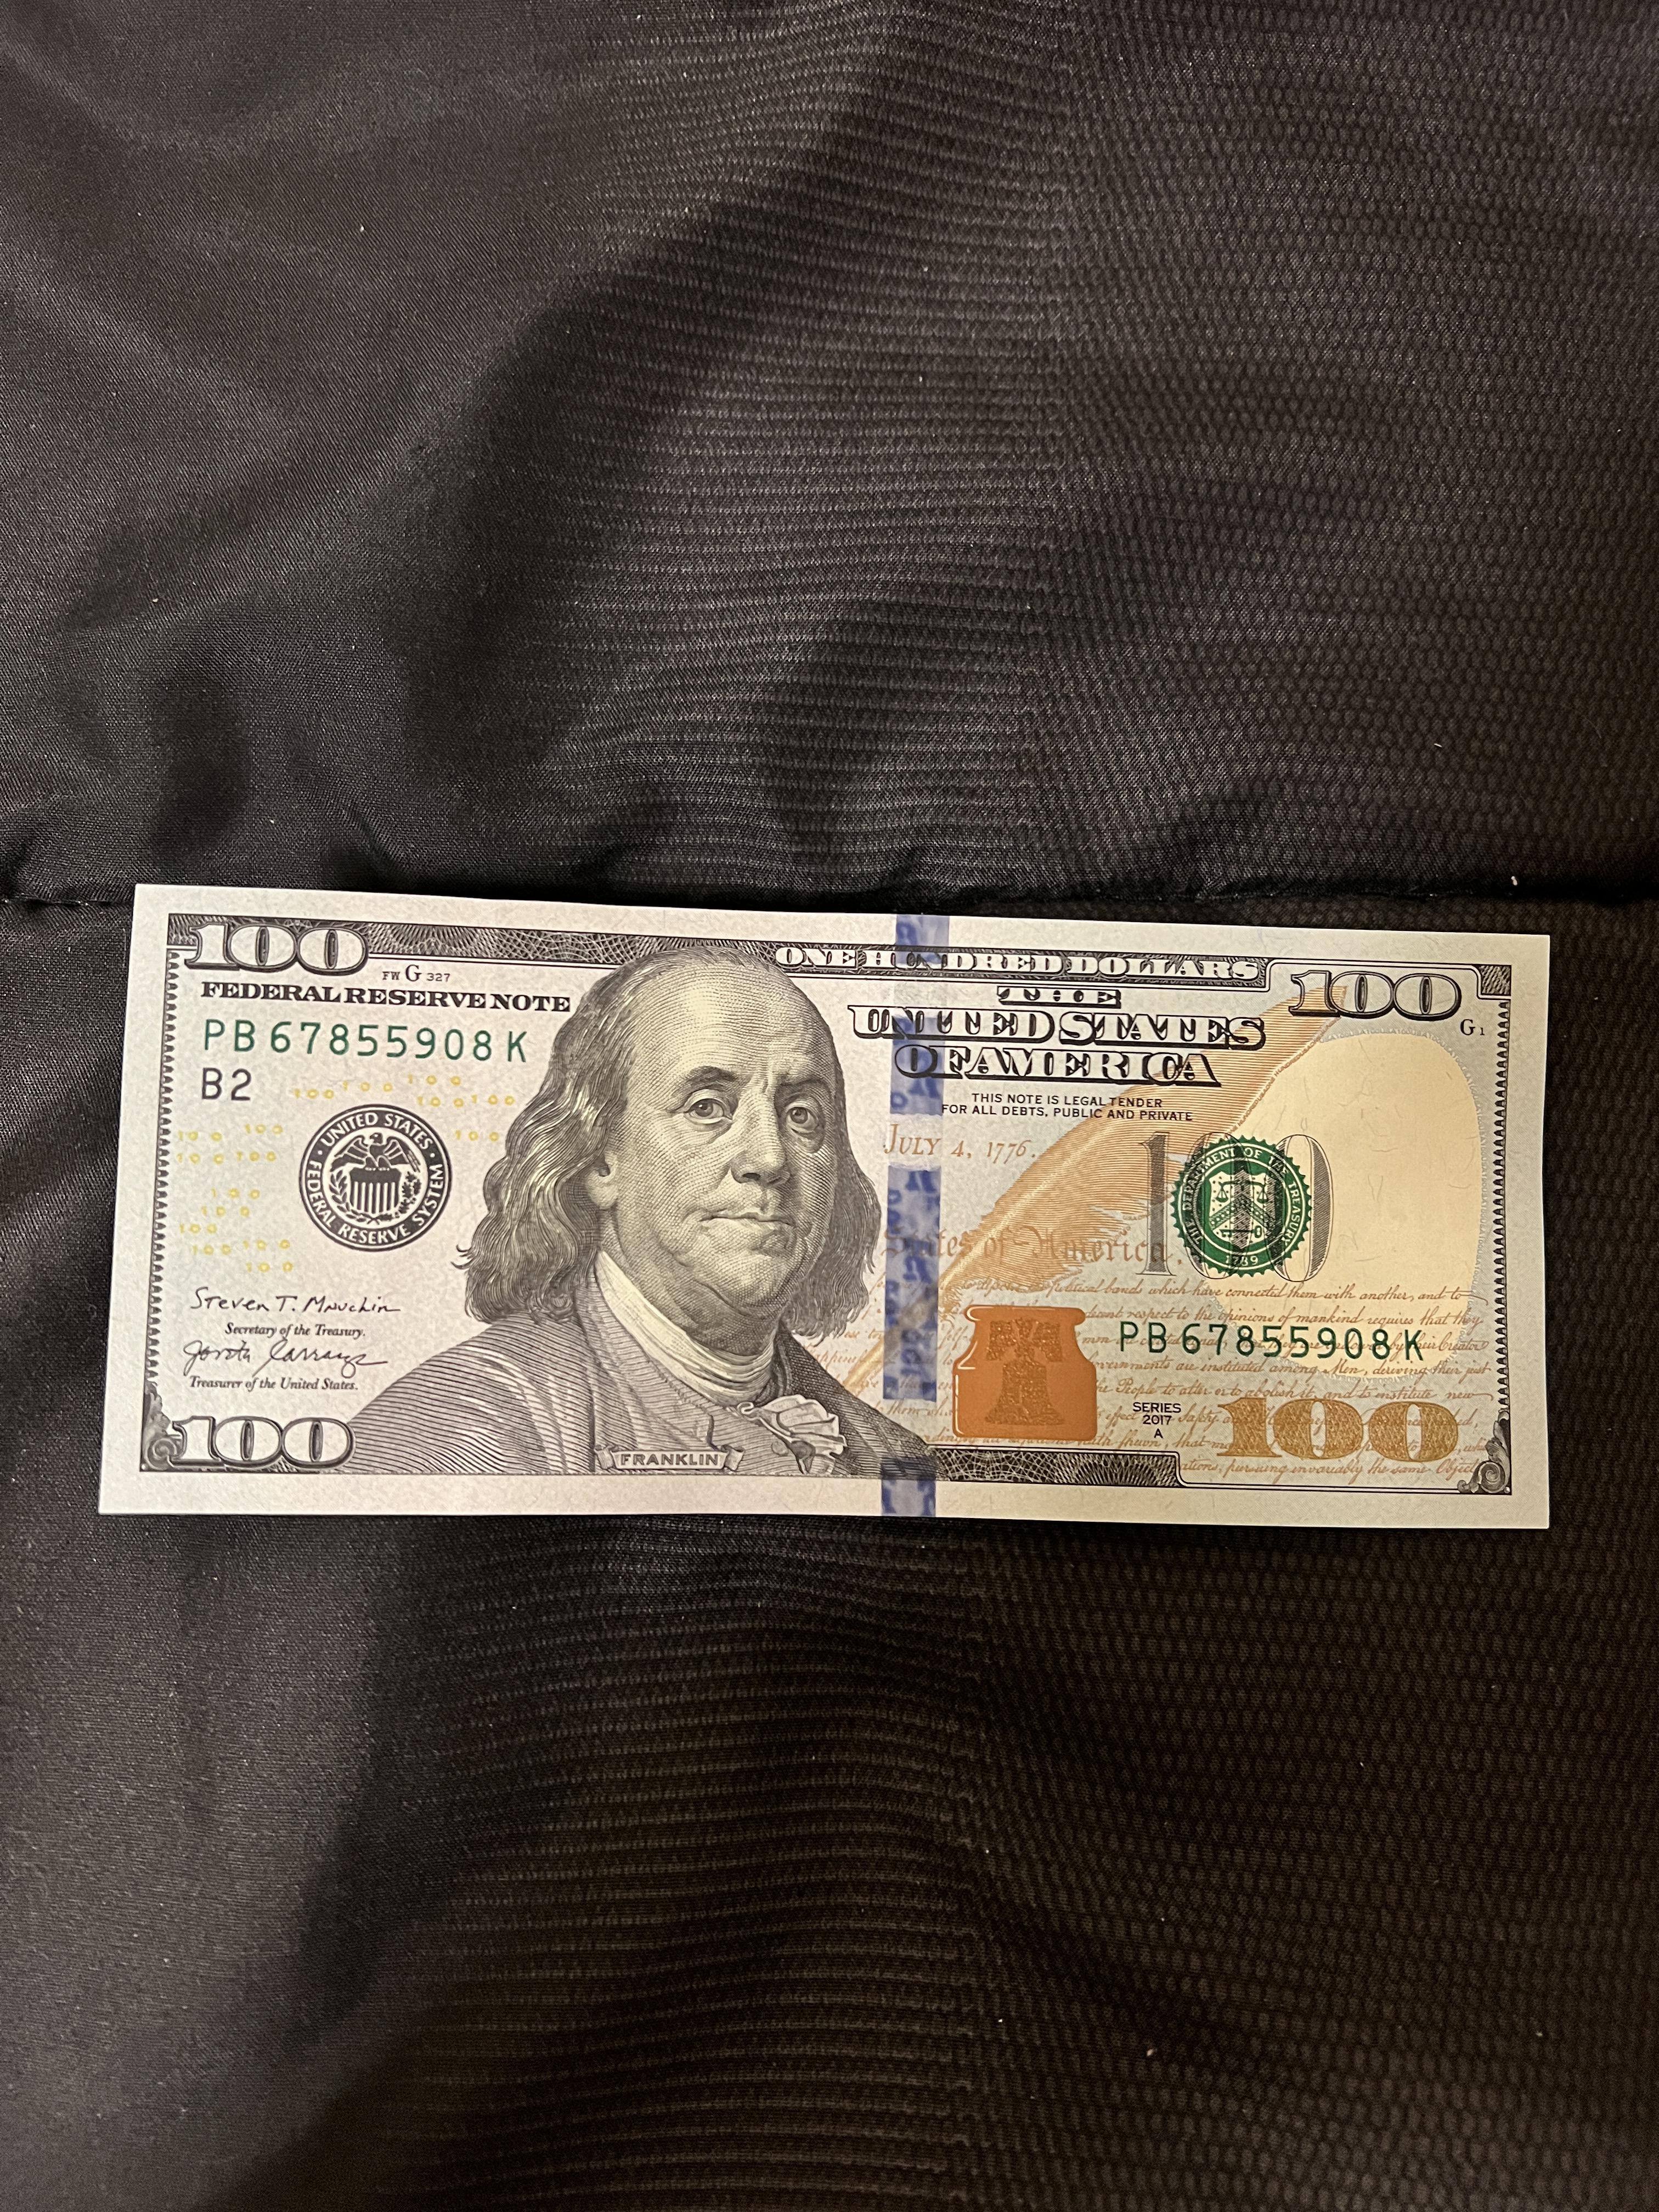HundredBill: (85, 881, 1572, 1536)
